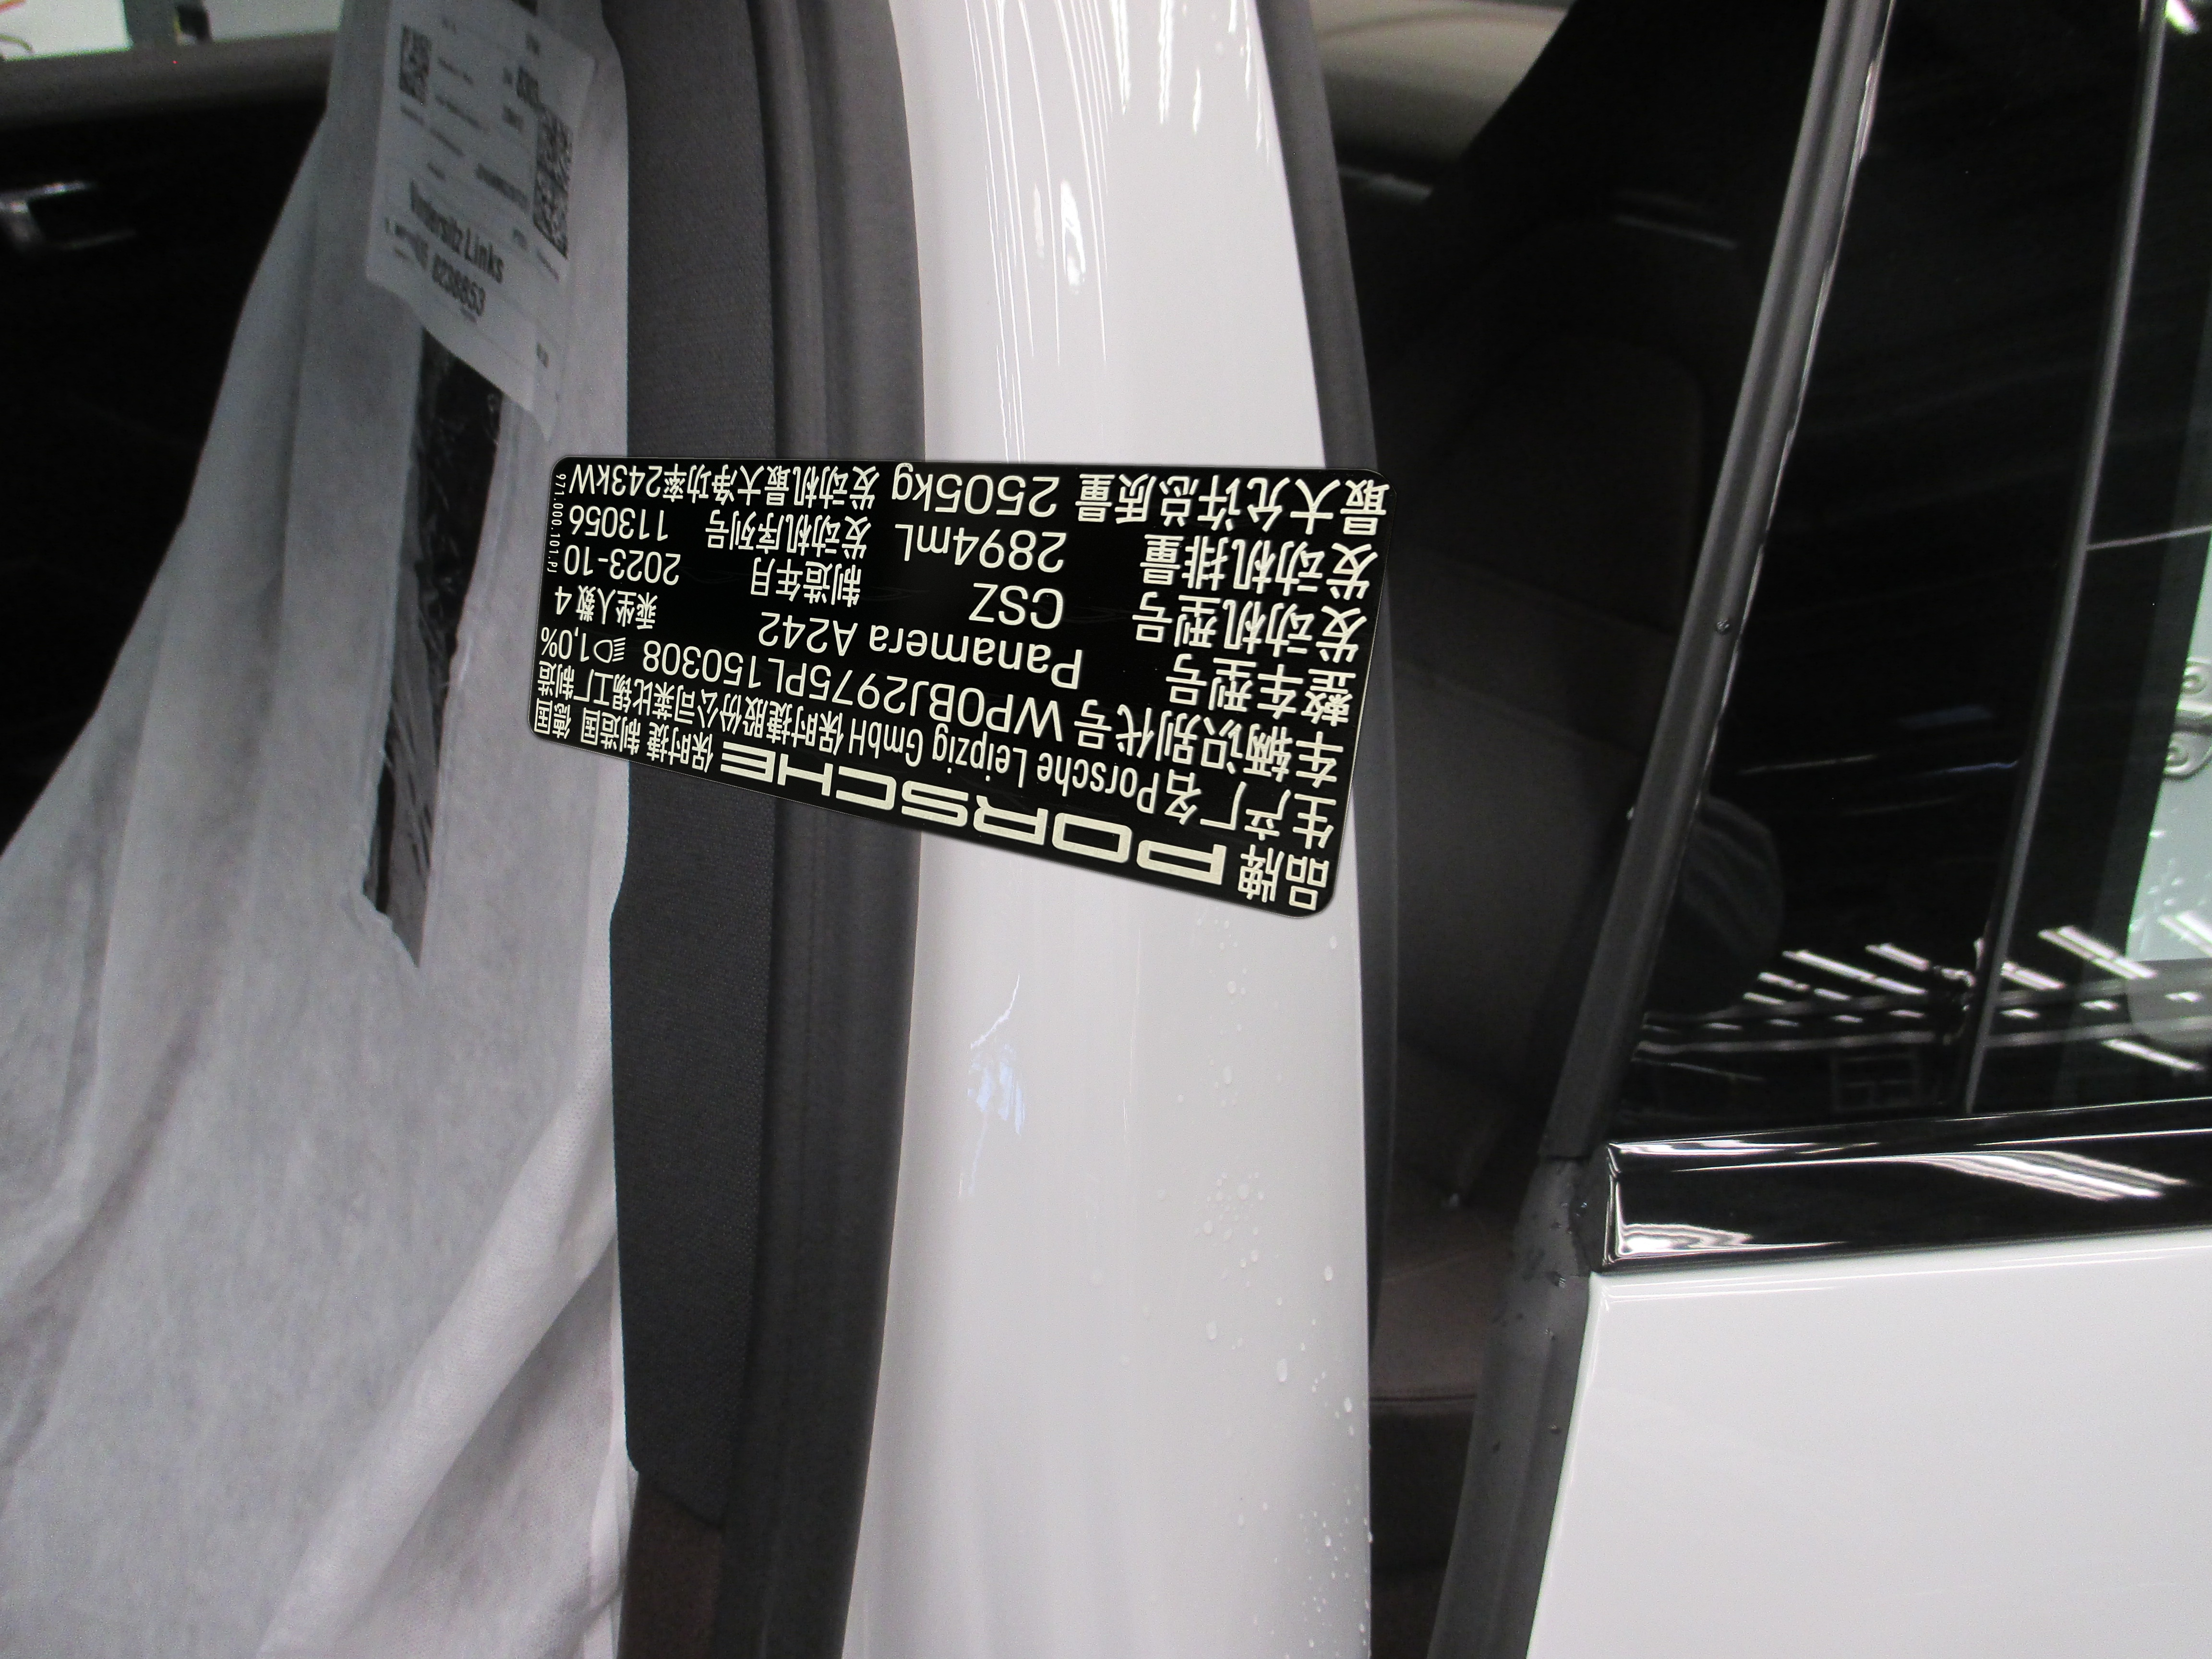Typlabel-China: (528, 457, 1395, 917)
